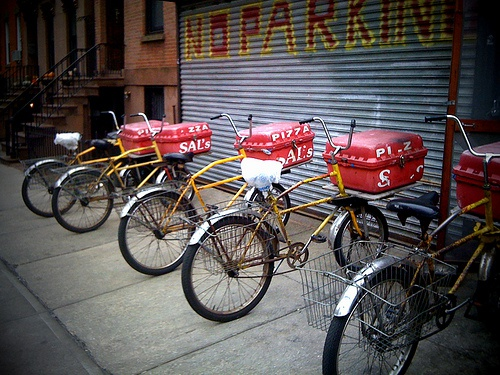non-vehicle: (297, 113, 500, 357), (183, 118, 425, 320), (113, 112, 254, 274), (54, 110, 174, 229), (21, 110, 127, 214)
